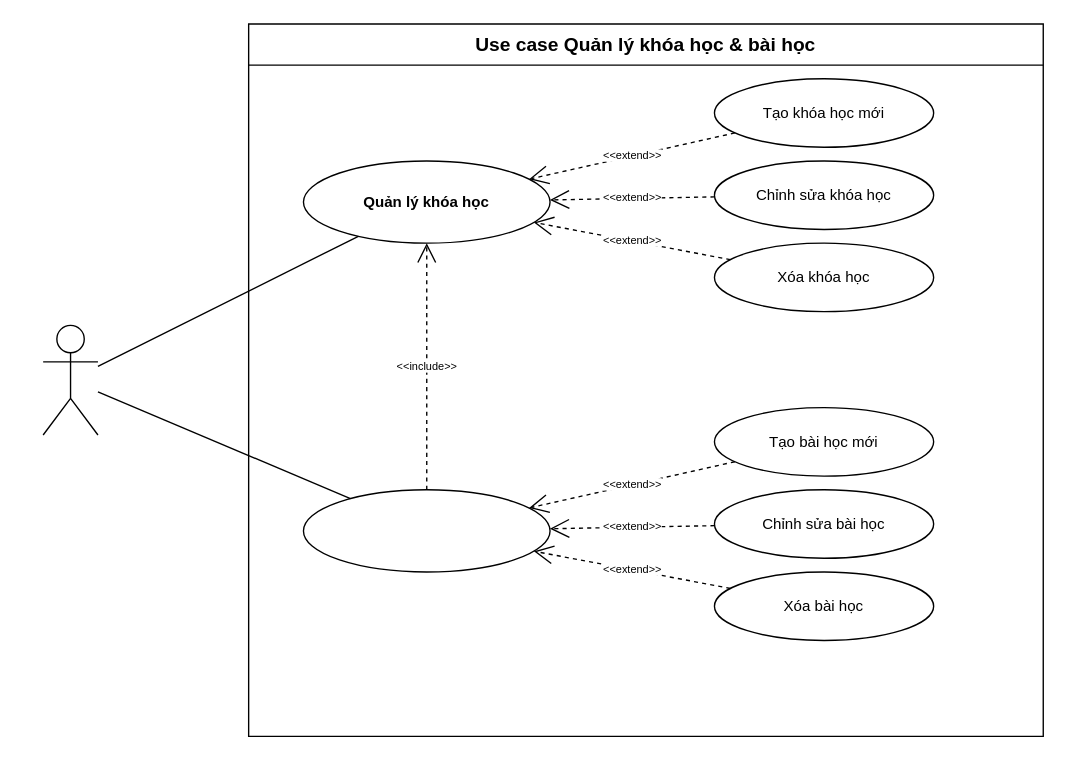
This 1067x760 diagram has some shape labels left out. Here are the shapes that lost their labels. From the top down, the centre of each, then its label:
point 70,379: Quản trị viên
point 426,530: Quản lý bài học
